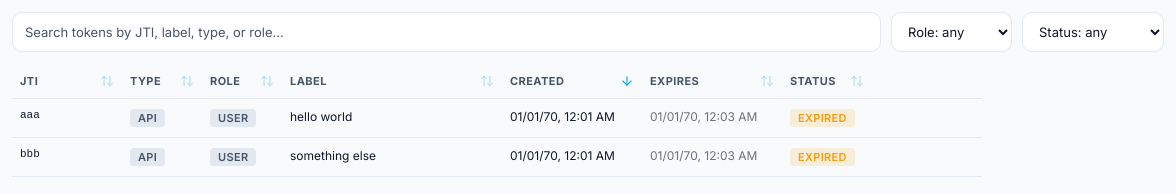
Test: MintedTokensTable › filters rows via the search input
Check: the text "aaa" is shown, box top-left (20, 109), bottom-right (40, 121)
Check: the text "bbb" is shown, box top-left (20, 148), bottom-right (40, 160)
Type "hello" into the field with placeholder "Search tokens by JTI, label, type, or role..." at (446, 32), box top-left (12, 12), bottom-right (881, 52)
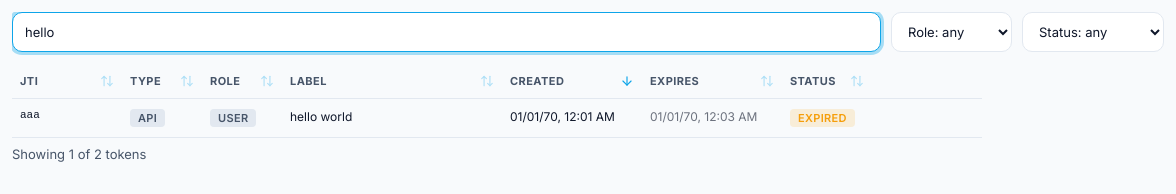
Check: the text "aaa" is shown, box top-left (20, 109), bottom-right (40, 121)
Check: the text "bbb" is gone
